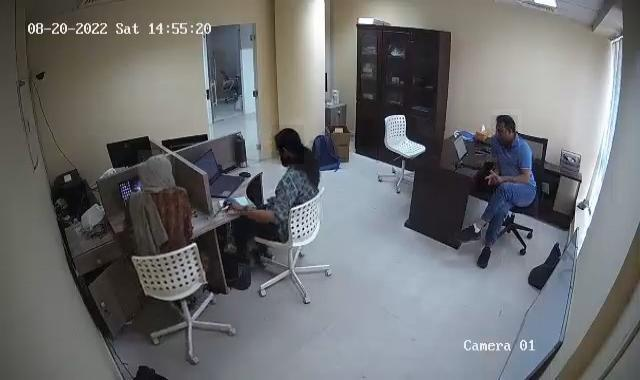no_apron: (478, 163, 514, 194), (218, 199, 254, 212)
no_gloves: (138, 150, 175, 193), (491, 109, 522, 153), (272, 125, 304, 164)
no_hairnet: (491, 116, 518, 155)
